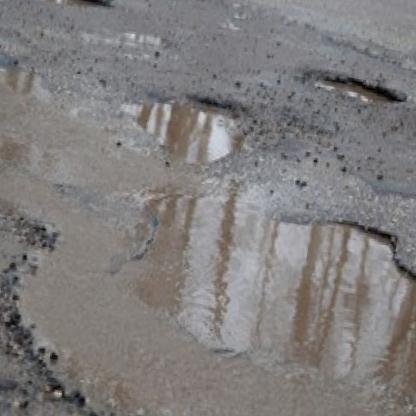pothole: (116, 79, 257, 170), (309, 68, 407, 112), (0, 0, 116, 17)
